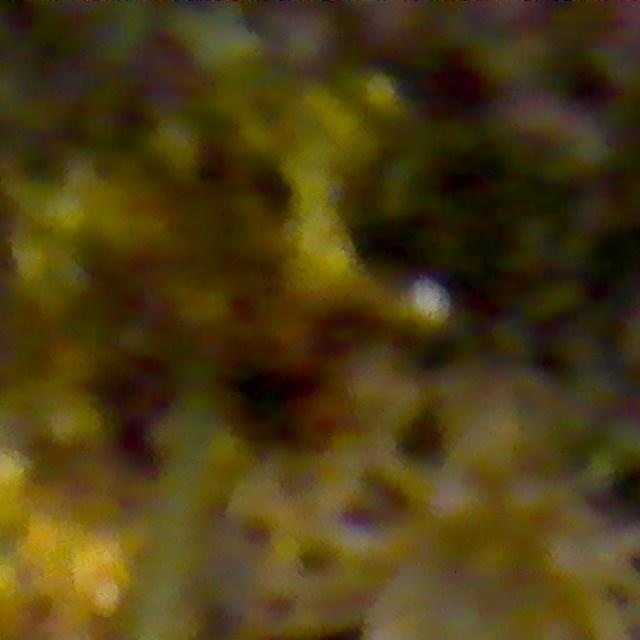SeaGrape: (275, 4, 339, 69), (145, 112, 206, 178)
